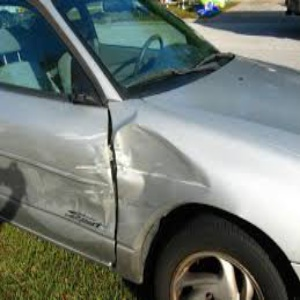door: (32, 125, 185, 222)
